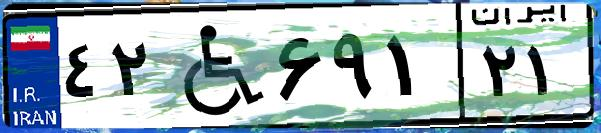1: (385, 28, 445, 110), (525, 38, 570, 115)
2: (475, 38, 525, 113), (110, 28, 158, 98)
4: (57, 26, 110, 100)
6: (270, 28, 330, 110)
9: (330, 28, 385, 110)
ژ (معلولین و جانبازان): (158, 12, 270, 120)
